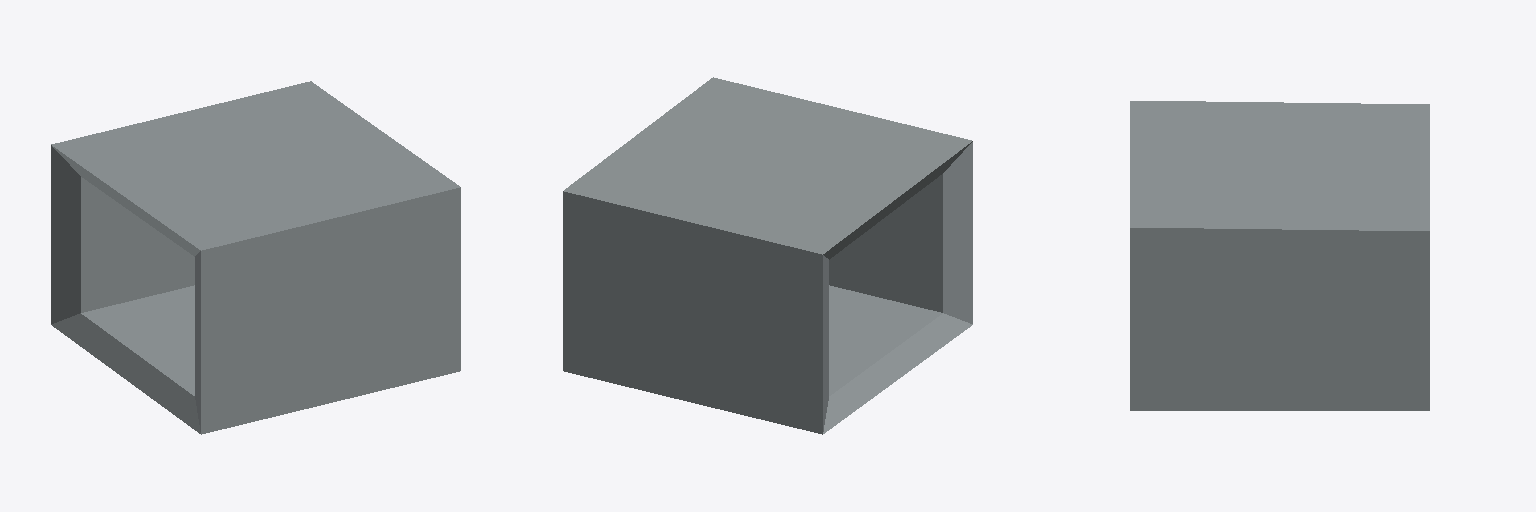
Rendered from oven.obj.
3 views of the same model, side by side, from view 1: azimuth 30°, elevation 25°; view 2: azimuth 150°, elevation 25°; view 3: azimuth 270°, elevation 25° (orthographic).
Visible parts, largest first — view 1: Cube_Cube.001; view 2: Cube_Cube.001; view 3: Cube_Cube.001.
Part boxes in pixels (left/top/right/bottom): Cube_Cube.001: left=51, top=81, right=460, bottom=434; Cube_Cube.001: left=563, top=77, right=972, bottom=434; Cube_Cube.001: left=1130, top=101, right=1429, bottom=410.
Size of the model in its own units: 6.42 by 4.34 by 6.42.